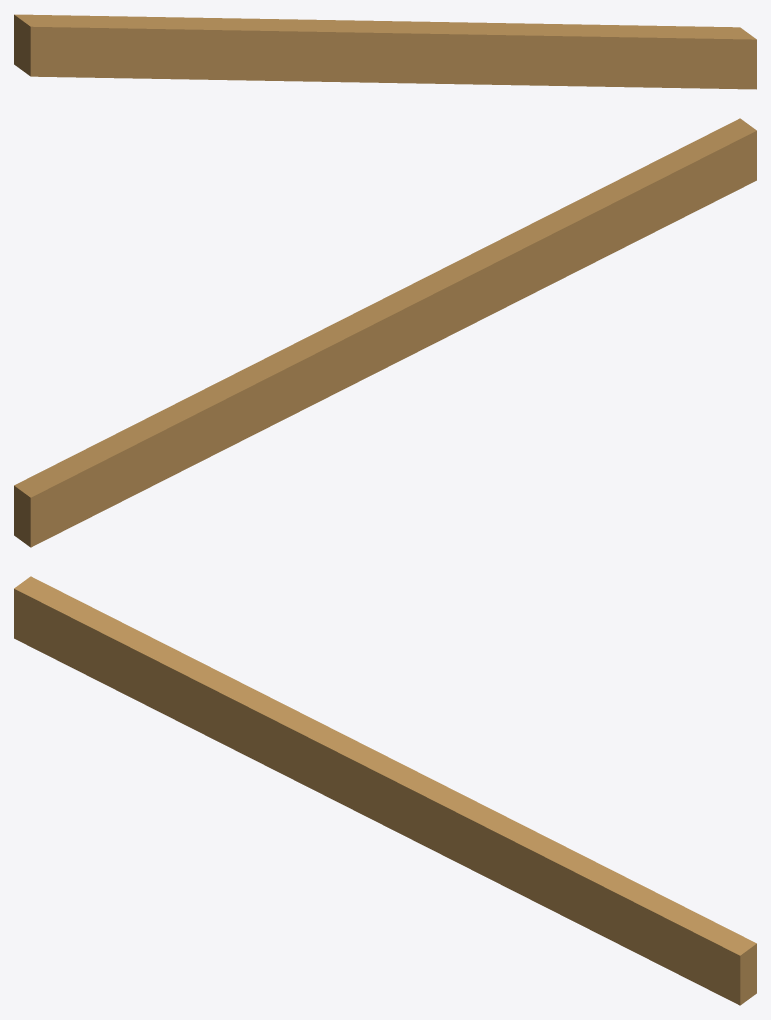
3 renders of one model, top to bottom at view 1: azimuth 30°, elevation 25°; view 2: azimuth 210°, elevation 25°; view 3: azimuth 330°, elevation 25°, orthographic.
Visible parts, largest first — view 1: L4-6-S3-3DA-M09; view 2: L4-6-S3-3DA-M09; view 3: L4-6-S3-3DA-M09.
Part boxes in pixels (<box>): L4-6-S3-3DA-M09: <box>14,14,756,89</box>; L4-6-S3-3DA-M09: <box>14,118,756,547</box>; L4-6-S3-3DA-M09: <box>14,576,756,1005</box>.
Bounding box in the file's own units: 1.12 × 0.3546 × 0.045.
